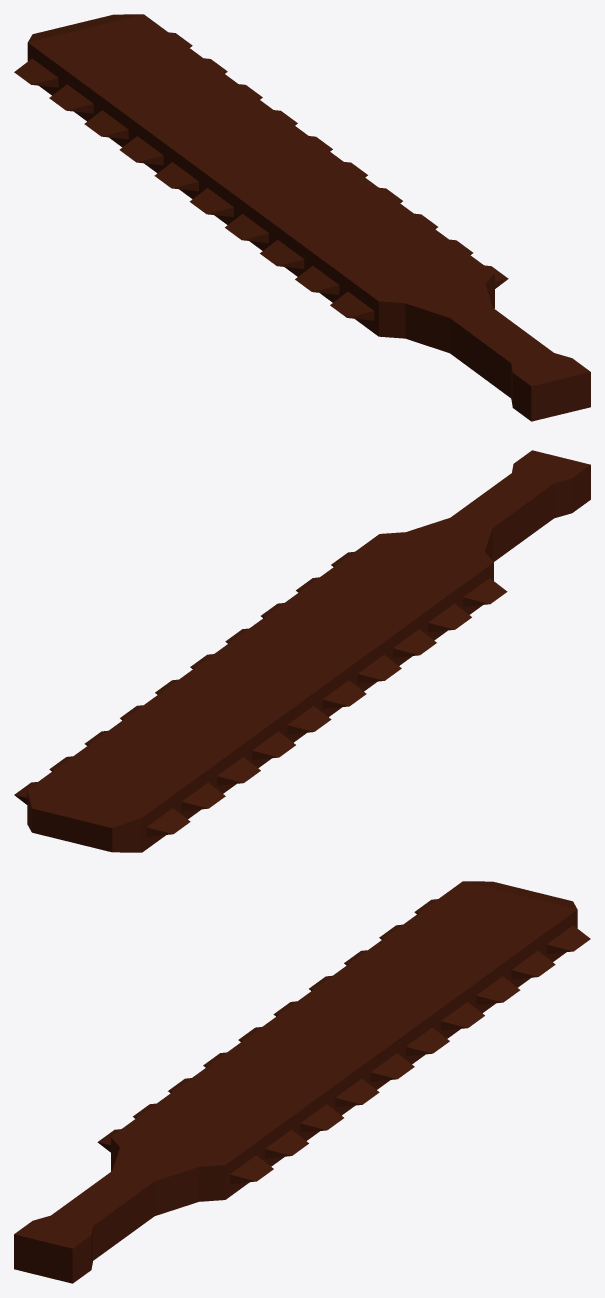
File: Macuahuitl.glb
3 renders of one model, top to bottom at view 1: azimuth 30°, elevation 25°; view 2: azimuth 150°, elevation 25°; view 3: azimuth 330°, elevation 25°, orthographic.
Parts seen in each view (by area): view 1: Macuahuitl; view 2: Macuahuitl; view 3: Macuahuitl.
Part boxes in pixels (left/top/right/bottom): Macuahuitl: left=14, top=14, right=590, bottom=421; Macuahuitl: left=14, top=450, right=590, bottom=852; Macuahuitl: left=14, top=881, right=590, bottom=1283.
Size of the model in its own units: 23.65 by 4.88 by 123.
